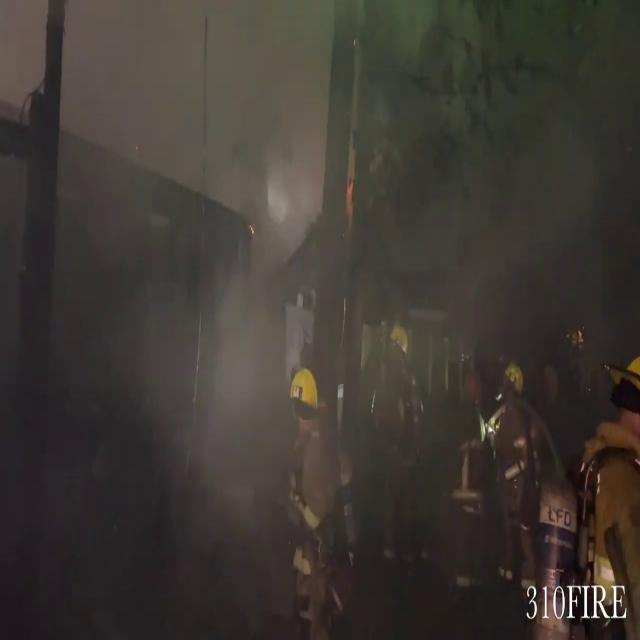Smoke: (1, 13, 333, 587)
